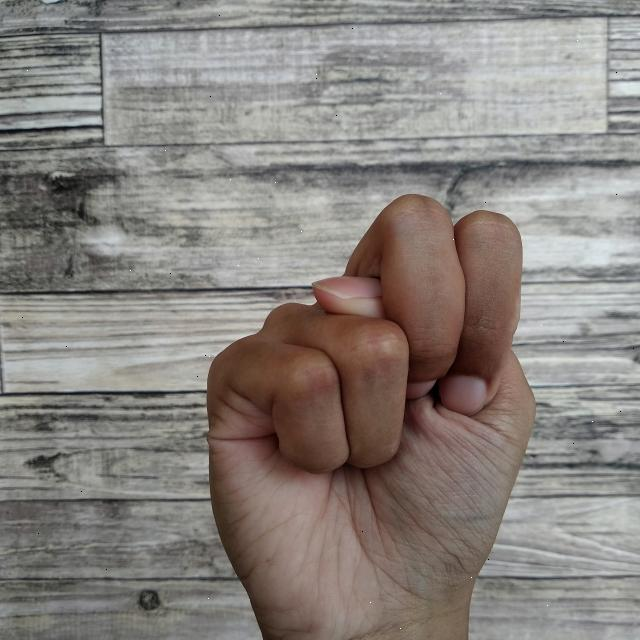N: (197, 186, 556, 640)
